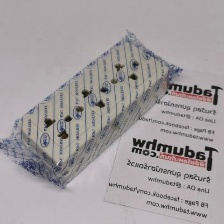three_eye_plug: (14, 36, 176, 187)
